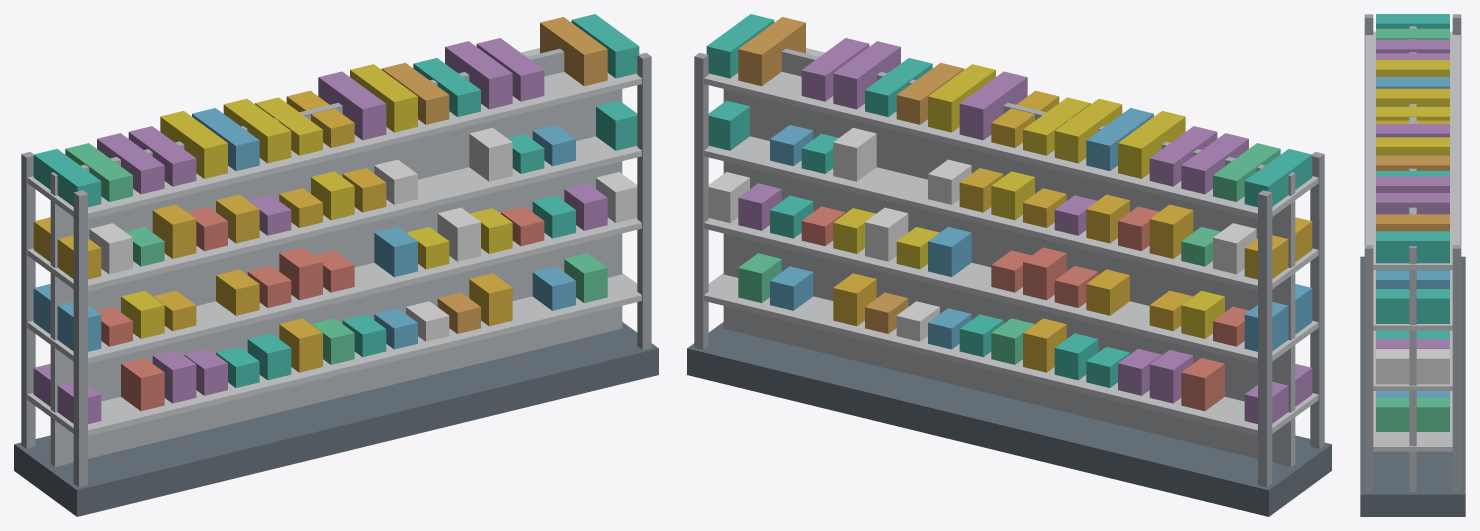
File: gondola.glb
3 views of the same model, side by side, from view 1: azimuth 30°, elevation 25°; view 2: azimuth 150°, elevation 25°; view 3: azimuth 270°, elevation 25° (orthographic). The views are drawn at different scales.
Parts seen in each view (by area): view 1: p5, p0, p39, p6, p22, p55, p1, p3, p2, p71, p65, p69 (+60 smaller); view 2: p5, p0, p39, p6, p22, p55, p2, p4, p1, p71, p65, p69 (+60 smaller); view 3: p0, p55, p3, p4, p38, p54, p21, p72, p5, p6, p70, p66 (+22 smaller).
Part boxes in pixels (left/top/right/bottom): p5: left=50, top=48, right=622, bottom=466; p0: left=14, top=322, right=658, bottom=516; p39: left=27, top=136, right=641, bottom=291; p6: left=27, top=273, right=641, bottom=435; p22: left=27, top=217, right=641, bottom=363; p55: left=27, top=48, right=641, bottom=218; p1: left=73, top=190, right=87, bottom=487; p3: left=637, top=52, right=651, bottom=349; p2: left=21, top=152, right=35, bottom=448; p71: left=540, top=17, right=607, bottom=86; p65: left=318, top=71, right=386, bottom=140; p69: left=445, top=41, right=512, bottom=109; p5: left=723, top=48, right=1295, bottom=466; p0: left=687, top=322, right=1331, bottom=516; p39: left=704, top=136, right=1318, bottom=291; p6: left=704, top=273, right=1318, bottom=435; p22: left=704, top=217, right=1318, bottom=363; p55: left=704, top=48, right=1318, bottom=218; p2: left=1258, top=190, right=1272, bottom=487; p4: left=694, top=52, right=708, bottom=349; p1: left=1310, top=152, right=1324, bottom=448; p71: left=738, top=17, right=805, bottom=86; p65: left=959, top=71, right=1027, bottom=140; p69: left=833, top=41, right=900, bottom=109; p0: left=1360, top=256, right=1465, bottom=516; p55: left=1365, top=31, right=1460, bottom=269; p3: left=1364, top=245, right=1373, bottom=492; p4: left=1452, top=245, right=1461, bottom=492; p38: left=1376, top=349, right=1449, bottom=384; p54: left=1376, top=289, right=1449, bottom=323; p21: left=1376, top=397, right=1449, bottom=431; p72: left=1376, top=231, right=1449, bottom=263; p5: left=1409, top=26, right=1416, bottom=491; p6: left=1373, top=391, right=1452, bottom=451; p70: left=1376, top=193, right=1449, bottom=214; p66: left=1376, top=137, right=1449, bottom=155.
Bounding box in the file's own units: 3.2 × 1.73 × 0.6.
